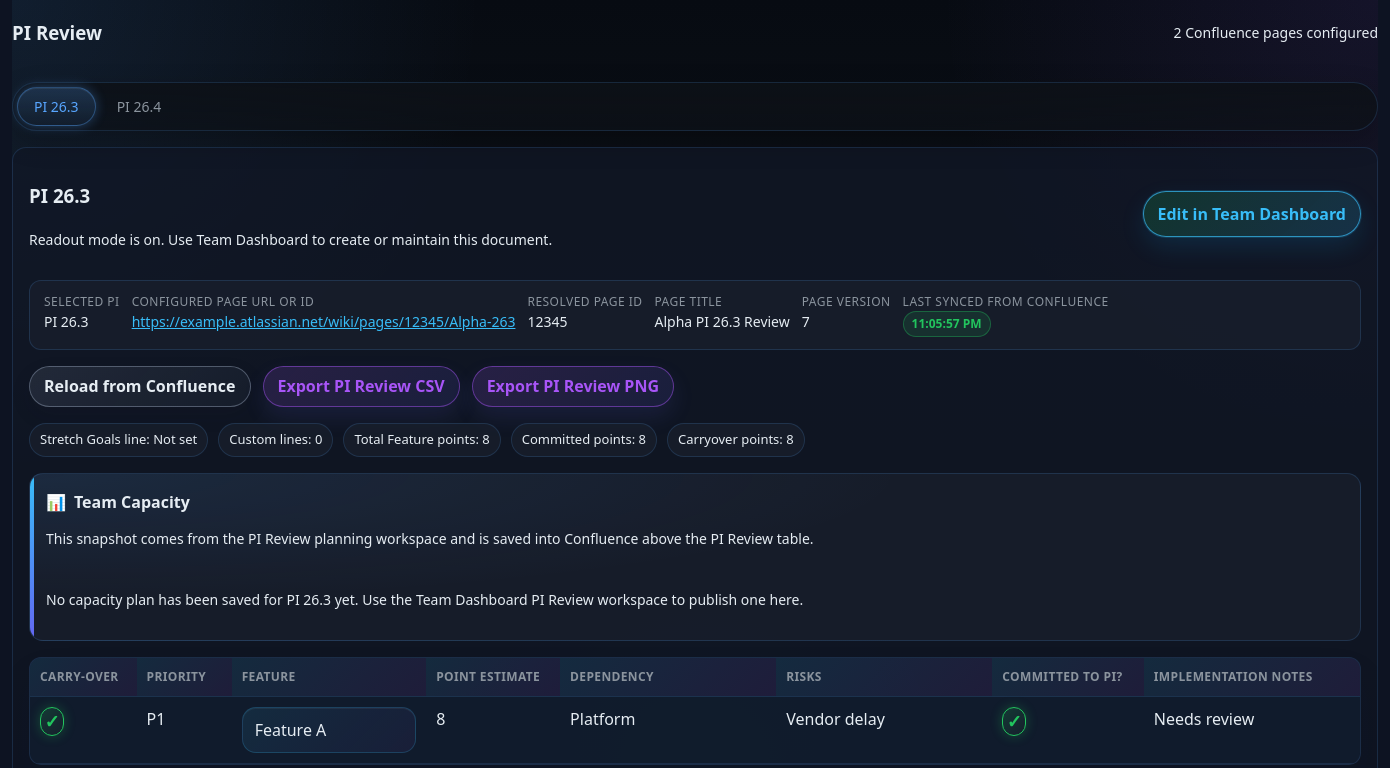
it: PiReviewTab › renders one sub-tab per PI in readout mode when a single team has multiple concurrent PI pages
Expected: the text "2 Confluence pages configured" is shown, [1174,22,1378,43]
Click the tab "PI 26.4".
click(139, 106)  # box [100,86,178,126]
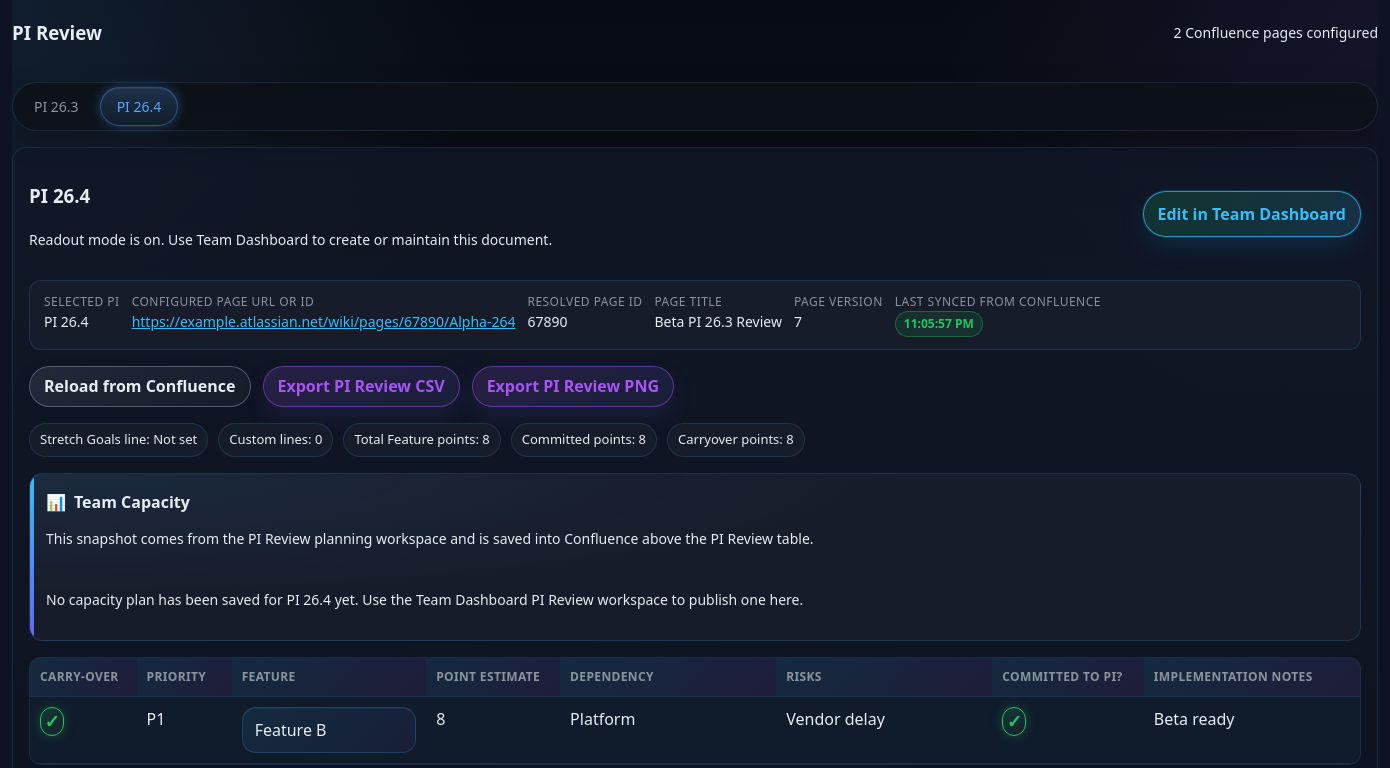
Expected: the text "Feature B" is shown, [255,719,326,741]
